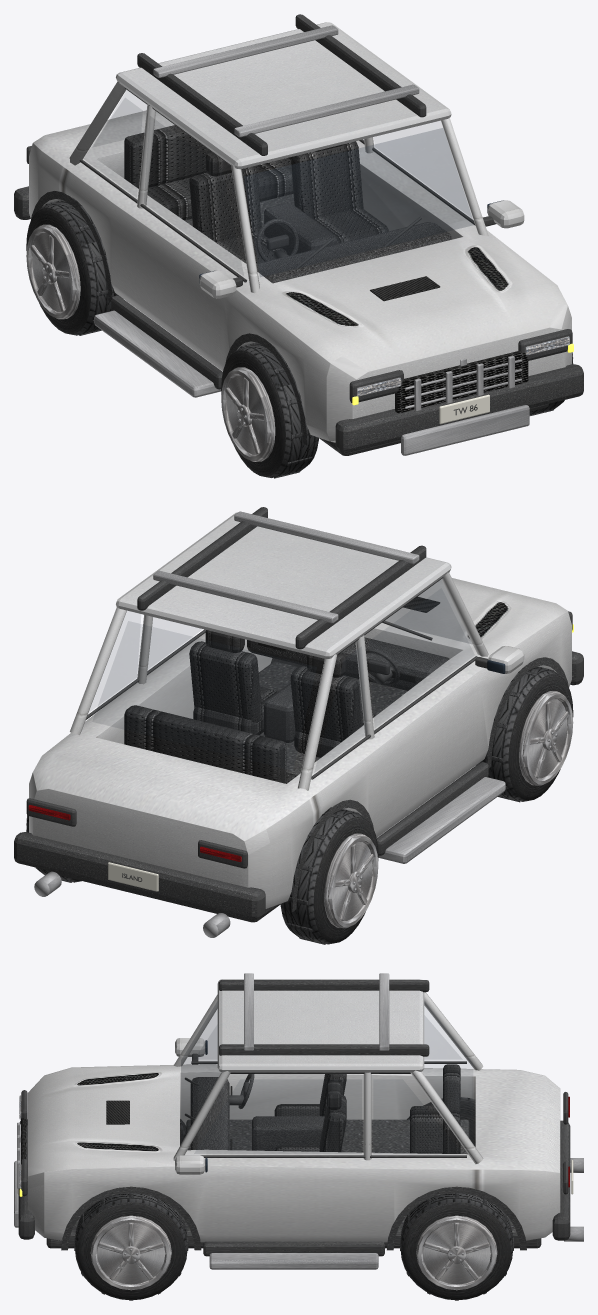
File: suv.glb
3 renders of one model, top to bottom at view 1: azimuth 30°, elevation 25°; view 2: azimuth 150°, elevation 25°; view 3: azimuth 270°, elevation 25°, orthographic. The views are drawn at different scales.
Visible parts, largest first — view 1: BodyPaint_suv_HoodParts, GlassParts.002, BodyPaint_suv_DoorParts, BodyPaint_suv_RoofParts, BodyPaint_suvParts, TrimParts.002, SeatLeatherParts.002, AlloyParts.010, DashboardVinylParts.002, PerforatedGrilleParts.002, TireTreadRubberParts.008, TireTreadRubberParts.010 (+9 smaller); view 2: BodyPaint_suvParts, BodyPaint_suv_DoorParts, TrimParts.002, BodyPaint_suv_RoofParts, SeatLeatherParts.002, AlloyParts.010, BodyPaint_suv_HoodParts, GlassParts.002, DashboardVinylParts.002, TireTreadRubberParts.010, TireTreadRubberParts.008, TireParts.008 (+8 smaller); view 3: BodyPaint_suv_DoorParts, BodyPaint_suvParts, TrimParts.002, BodyPaint_suv_HoodParts, BodyPaint_suv_RoofParts, SeatLeatherParts.002, AlloyParts.010, DashboardVinylParts.002, GlassParts.002, TireParts.011, TireParts.009, ForgedGraphiteParts.009 (+7 smaller).
Boxes of the visible parts, left/top/right/bottom form: BodyPaint_suv_HoodParts: left=236, top=220, right=567, bottom=378; GlassParts.002: left=92, top=97, right=474, bottom=276; BodyPaint_suv_DoorParts: left=29, top=143, right=571, bottom=441; BodyPaint_suv_RoofParts: left=116, top=22, right=451, bottom=169; BodyPaint_suvParts: left=33, top=81, right=567, bottom=442; TrimParts.002: left=14, top=14, right=583, bottom=455; SeatLeatherParts.002: left=124, top=125, right=388, bottom=263; AlloyParts.010: left=94, top=25, right=529, bottom=455; DashboardVinylParts.002: left=256, top=203, right=452, bottom=283; PerforatedGrilleParts.002: left=395, top=351, right=528, bottom=413; TireTreadRubberParts.008: left=233, top=341, right=318, bottom=478; TireTreadRubberParts.010: left=39, top=198, right=122, bottom=335; BodyPaint_suvParts: left=33, top=572, right=556, bottom=908; BodyPaint_suv_DoorParts: left=29, top=611, right=571, bottom=908; TrimParts.002: left=14, top=507, right=583, bottom=922; BodyPaint_suv_RoofParts: left=116, top=512, right=451, bottom=659; SeatLeatherParts.002: left=124, top=630, right=376, bottom=783; AlloyParts.010: left=34, top=511, right=505, bottom=937; BodyPaint_suv_HoodParts: left=375, top=578, right=567, bottom=672; GlassParts.002: left=98, top=580, right=471, bottom=705; DashboardVinylParts.002: left=247, top=637, right=449, bottom=742; TireTreadRubberParts.010: left=280, top=807, right=365, bottom=944; TireTreadRubberParts.008: left=477, top=665, right=560, bottom=802; TireParts.008: left=508, top=673, right=573, bottom=800; BodyPaint_suv_DoorParts: left=28, top=1072, right=559, bottom=1242; BodyPaint_suvParts: left=30, top=992, right=560, bottom=1212; TrimParts.002: left=18, top=980, right=570, bottom=1256; BodyPaint_suv_HoodParts: left=28, top=1064, right=206, bottom=1176; BodyPaint_suv_RoofParts: left=217, top=979, right=424, bottom=1072; SeatLeatherParts.002: left=274, top=1064, right=460, bottom=1153; AlloyParts.010: left=14, top=973, right=583, bottom=1269; DashboardVinylParts.002: left=190, top=1074, right=324, bottom=1150; GlassParts.002: left=181, top=1002, right=462, bottom=1142; TireParts.011: left=402, top=1202, right=511, bottom=1300; TireParts.009: left=77, top=1202, right=185, bottom=1300; ForgedGraphiteParts.009: left=90, top=1215, right=171, bottom=1284.
Size of the model in its own units: 2.41 by 2.07 by 4.55.
Materials: 20 (18 with a texture image).
